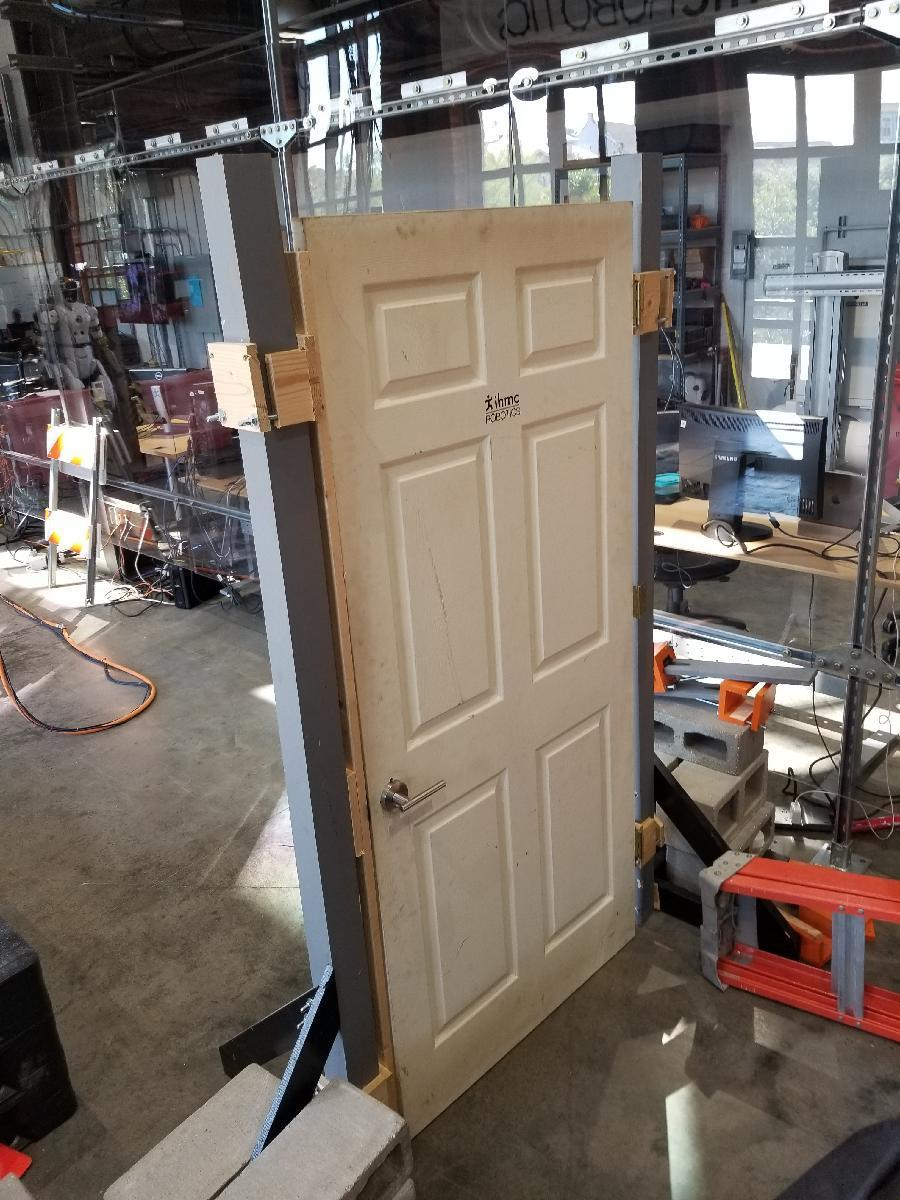door: (384, 218, 640, 1071)
handle: (384, 773, 452, 819)
